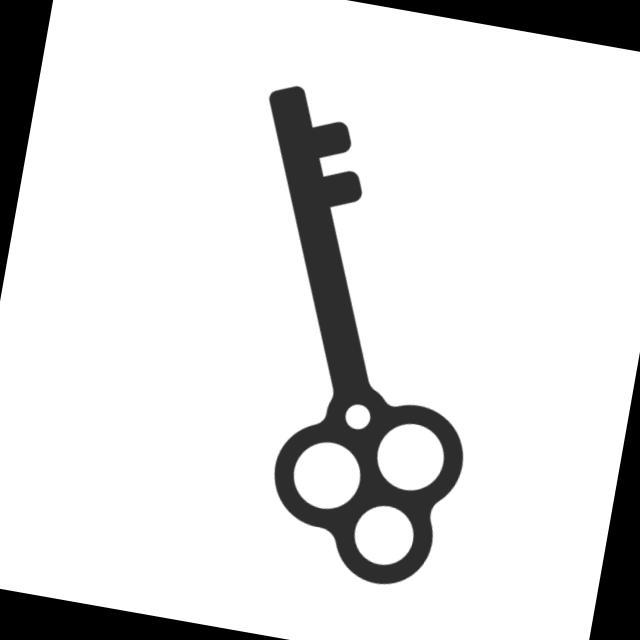key: (181, 74, 525, 598)
